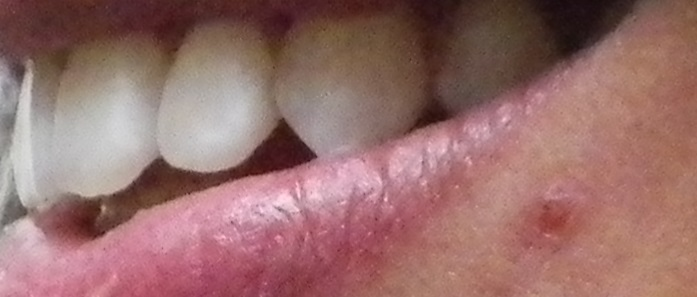boca: (1, 17, 567, 220)
